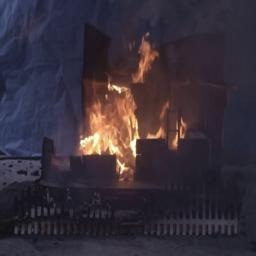fire: (83, 48, 167, 168)
